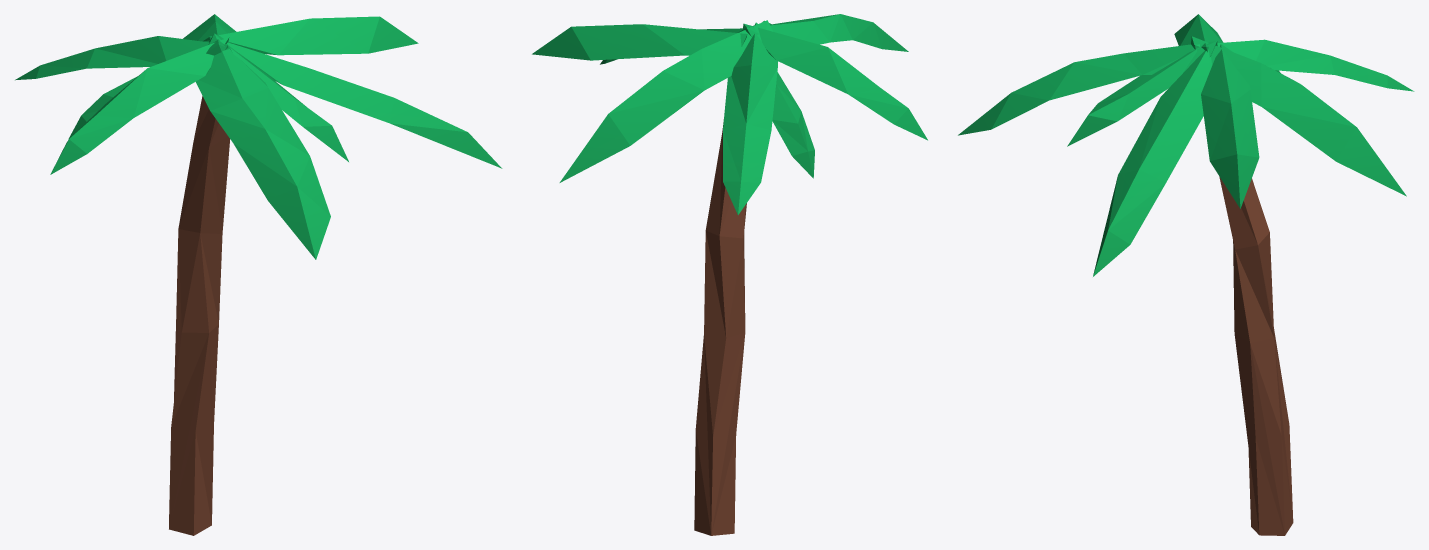
The model's file is Tree_13_gradient_green_vc.fbx.
The picture shows the model from 3 angles, left to right: view 1: azimuth 30°, elevation 25°; view 2: azimuth 150°, elevation 25°; view 3: azimuth 270°, elevation 25°; orthographic projection. The views are drawn at different scales.
Visible parts, largest first — view 1: Tree_13_gradient_green_vc; view 2: Tree_13_gradient_green_vc; view 3: Tree_13_gradient_green_vc.
Part boxes in pixels (x1,y1,x2,y2): Tree_13_gradient_green_vc: (15, 14, 502, 535); Tree_13_gradient_green_vc: (532, 14, 927, 535); Tree_13_gradient_green_vc: (958, 14, 1414, 535).
Size of the model in its own units: 189 by 233 by 198.
